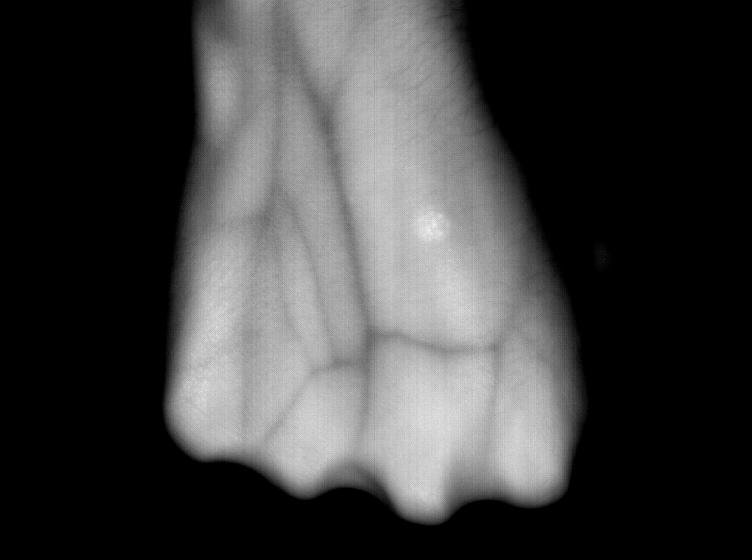Vein: (270, 22, 376, 372)
